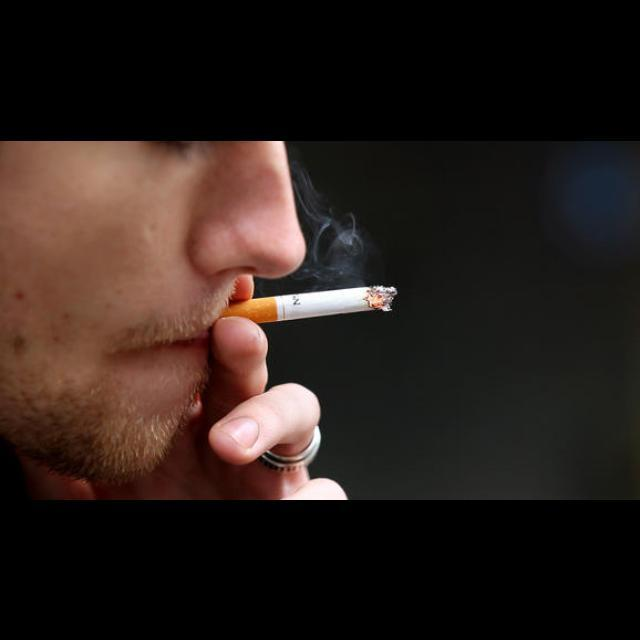rokok: (216, 284, 404, 326)
